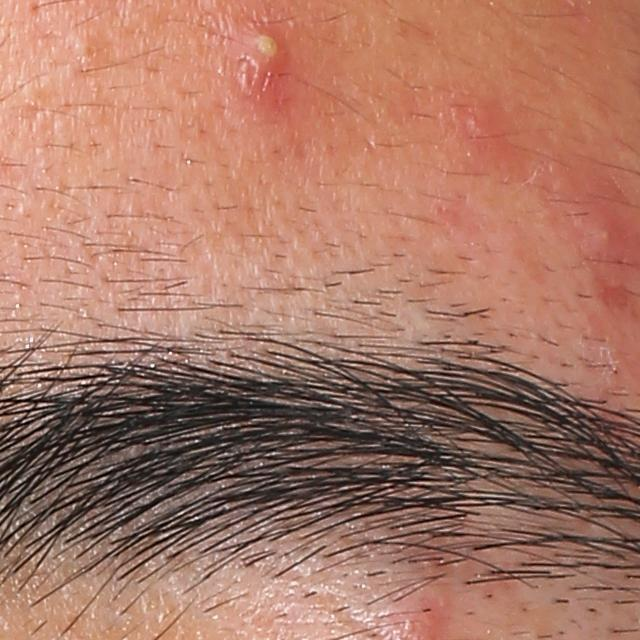comedo: (57, 29, 108, 85)
pustule: (214, 10, 307, 115)
